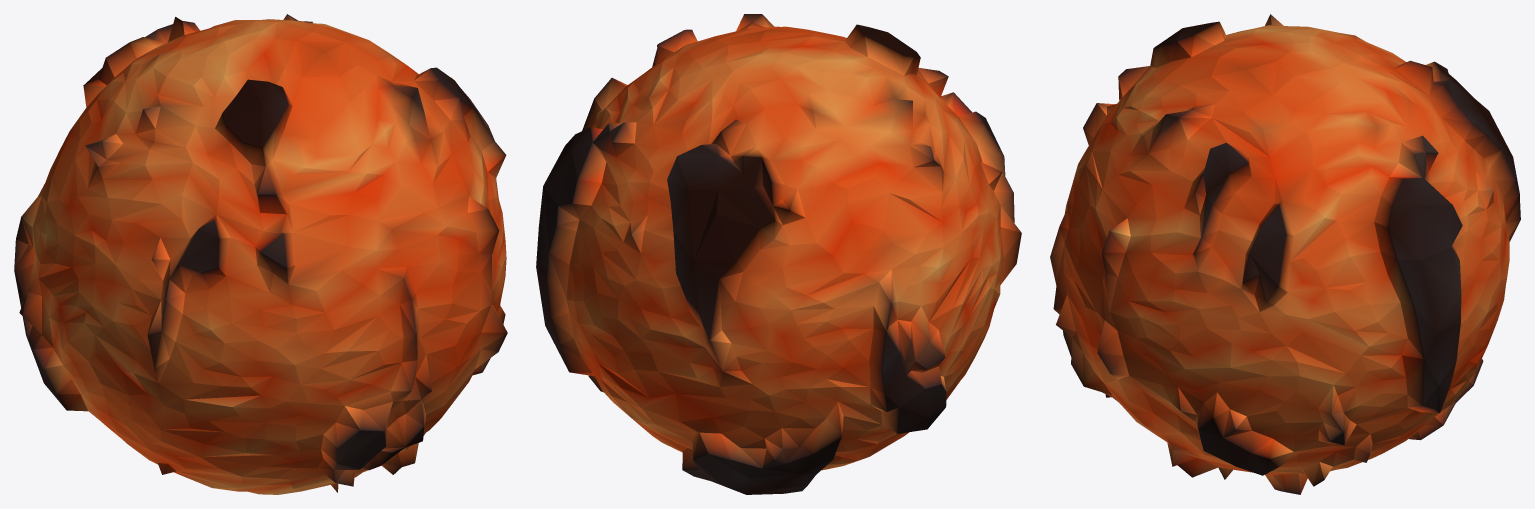
File: barren_19.fbx
The picture shows the model from 3 angles, left to right: view 1: azimuth 30°, elevation 25°; view 2: azimuth 150°, elevation 25°; view 3: azimuth 270°, elevation 25°; orthographic projection. The views are drawn at different scales.
Parts seen in each view (by area): view 1: filecache1; view 2: filecache1; view 3: filecache1.
Part boxes in pixels (x1,y1,x2,y2): filecache1: (14, 14, 507, 494); filecache1: (536, 14, 1021, 494); filecache1: (1050, 14, 1520, 494).
Bounding box in the file's own units: 2.09 × 2.06 × 2.12.
